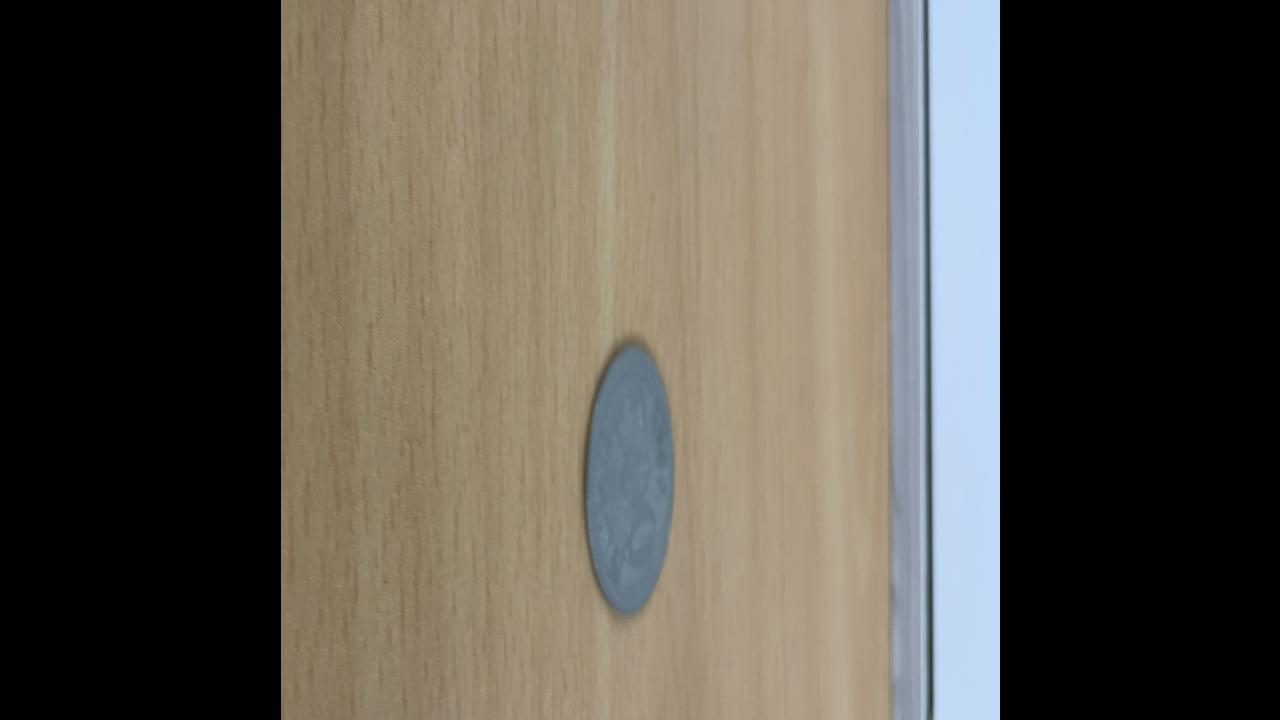coin: (582, 338, 676, 622)
